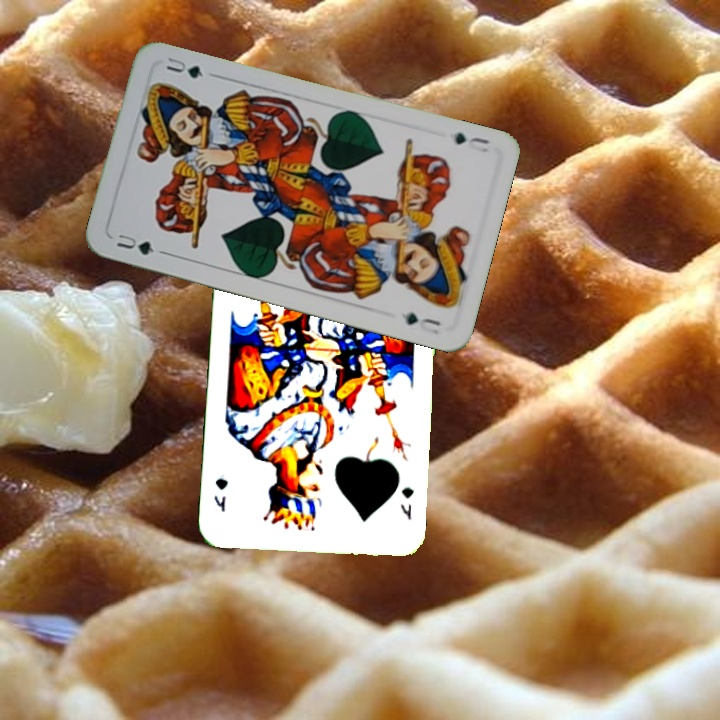GK: (396, 483, 416, 523)
GU: (112, 229, 167, 258), (450, 128, 492, 149)
